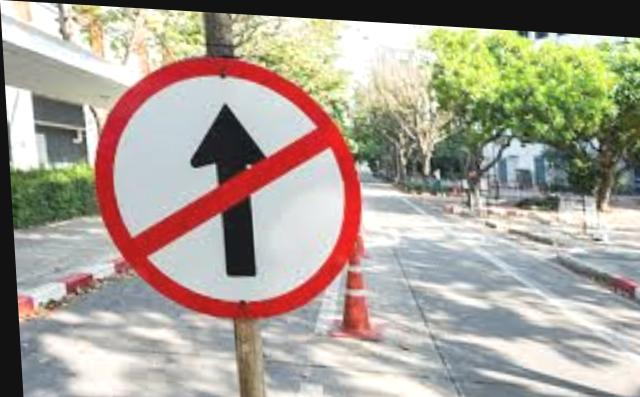not_go_straight: (80, 44, 368, 322)
